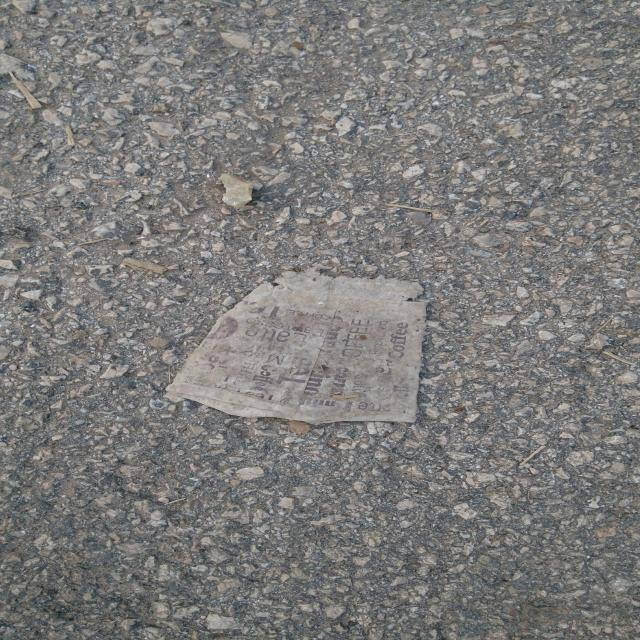litter: (164, 272, 428, 426)
